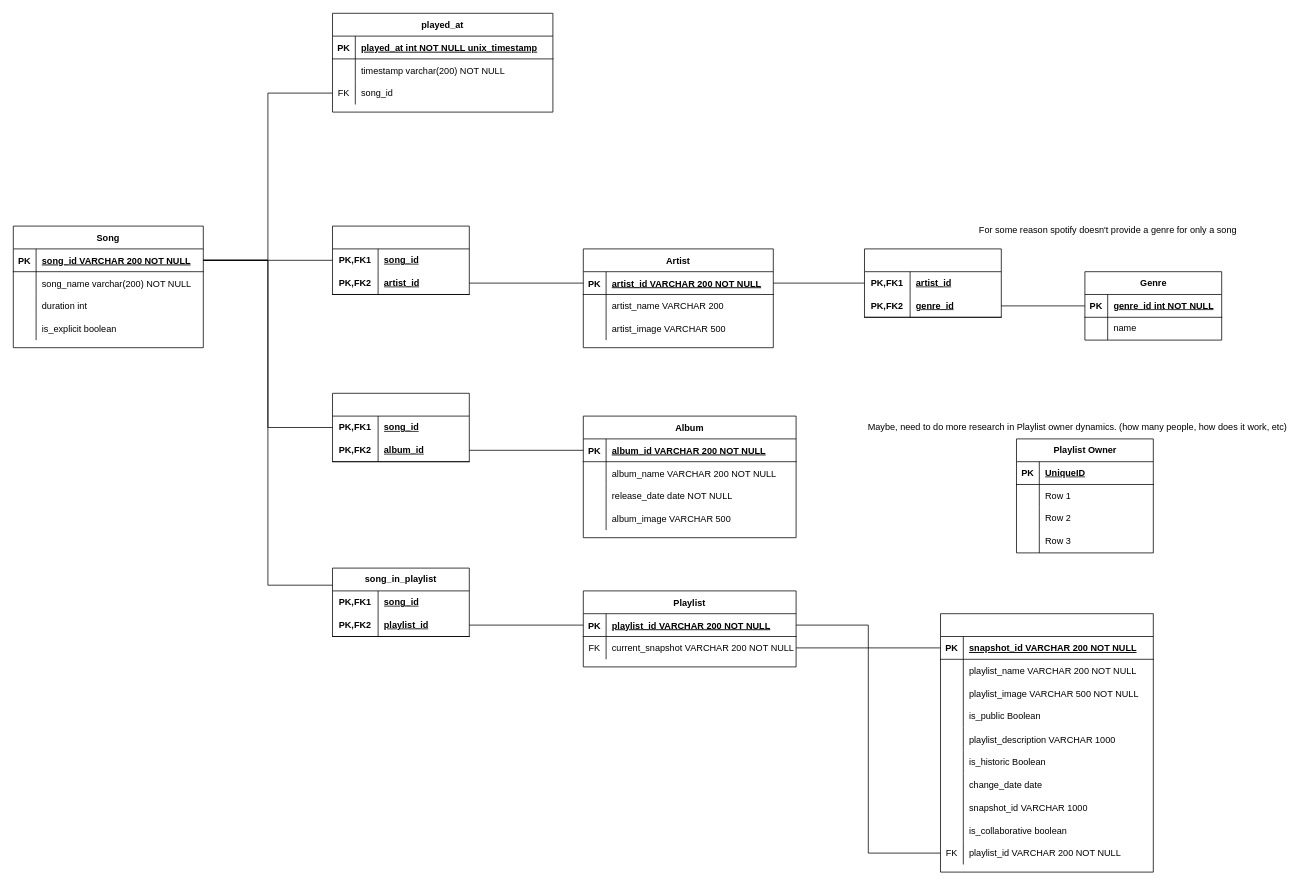
Some shapes in this 1311 by 885 pixel diagram are drawn without their labels. The shapes that lost their labels are listed below. From the top down, each one's box as (x1, y1, x2, y2) in pixels, then its label:
(332, 225, 469, 294): song_artist
(864, 248, 1001, 317): artist_genre
(332, 393, 469, 462): song_in_album
(940, 613, 1153, 872): Playlist_iteration
